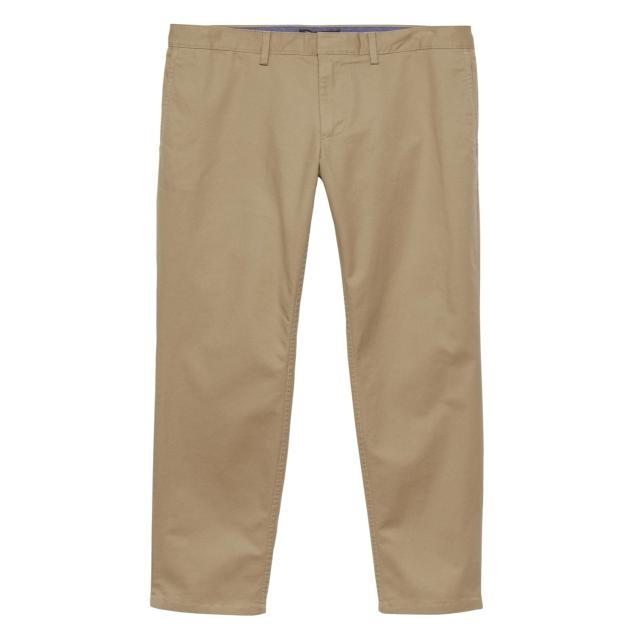long-pants: (150, 23, 485, 619)
